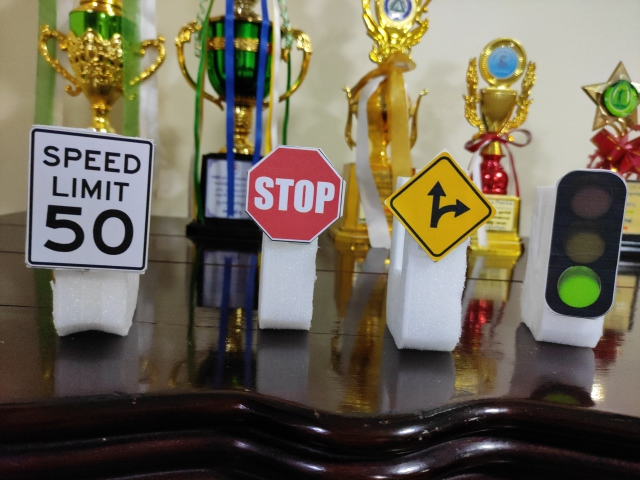Green Traffic Light: (545, 169, 626, 319)
Speed Limit 50: (28, 127, 154, 272)
Stop Sign: (246, 146, 347, 243)
Straight Or Right Sign: (388, 155, 495, 260)
